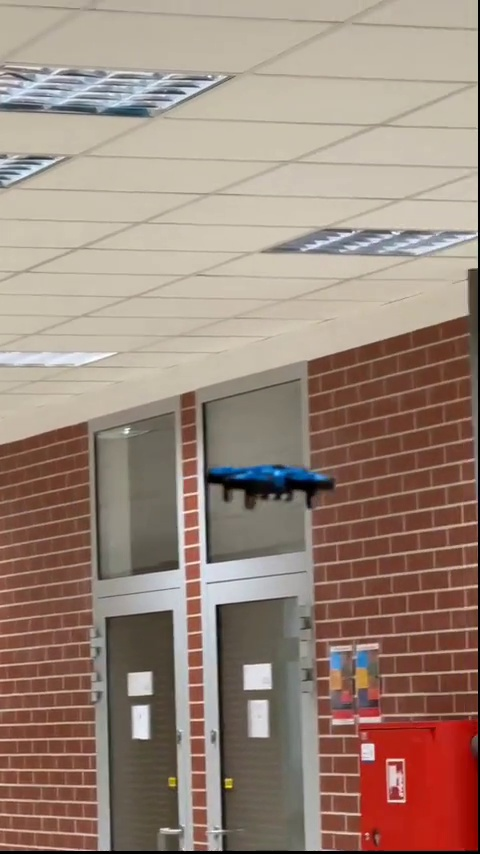drone: (209, 460, 330, 514)
